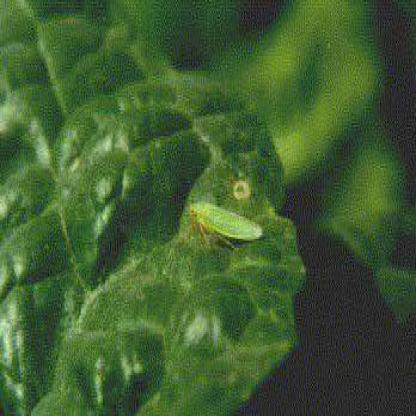Green-Leafhopper: (186, 200, 262, 250)
